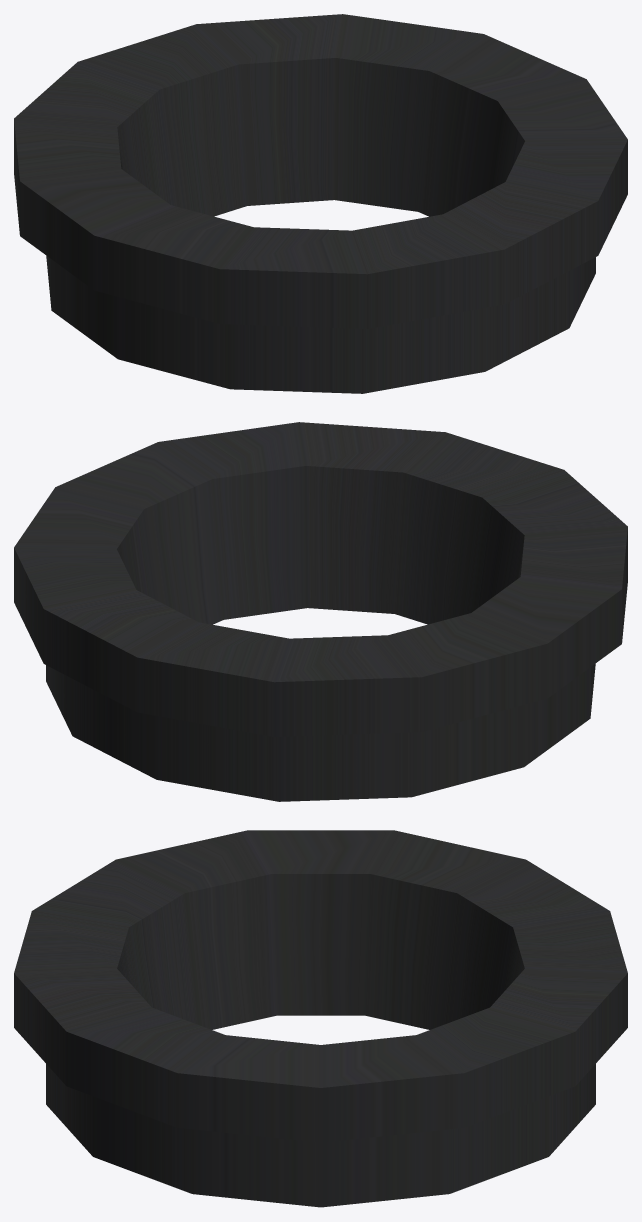
Rendered from Elevating_Mechanism.dae.
3 views of the same model, one above another, from view 1: azimuth 30°, elevation 25°; view 2: azimuth 150°, elevation 25°; view 3: azimuth 270°, elevation 25° (orthographic).
Visible parts, largest first — view 1: Elevating_Mechanism; view 2: Elevating_Mechanism; view 3: Elevating_Mechanism.
Part boxes in pixels (left/top/right/bottom): Elevating_Mechanism: left=14, top=14, right=627, bottom=393; Elevating_Mechanism: left=14, top=422, right=627, bottom=801; Elevating_Mechanism: left=14, top=830, right=627, bottom=1207.
Size of the model in its own units: 0.0237 by 0.0239 by 0.00571.
1 material, 1 textured.
